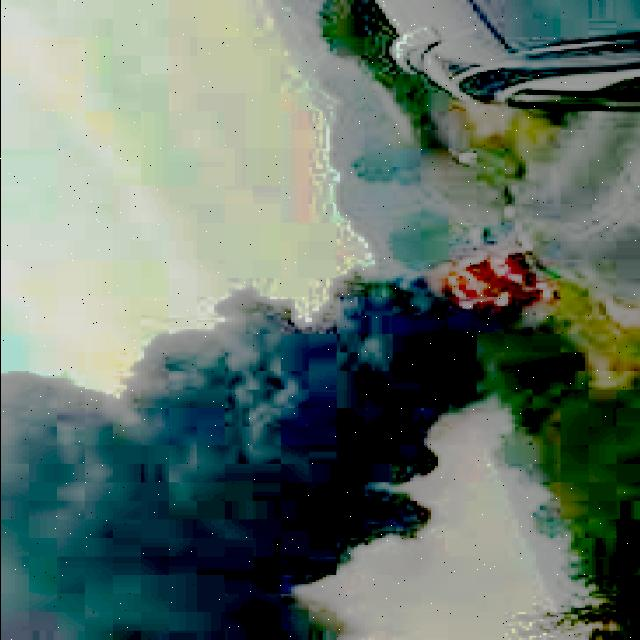api: (424, 245, 557, 321)
